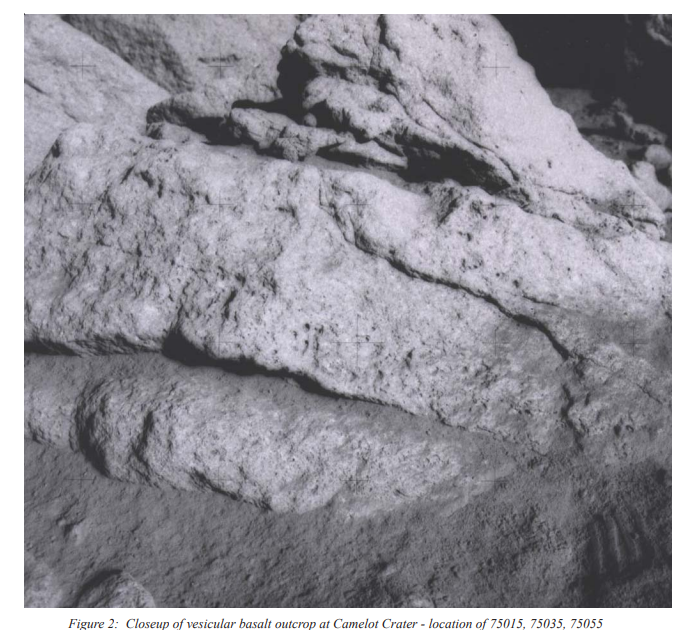Basalt: (77, 73, 625, 459)
